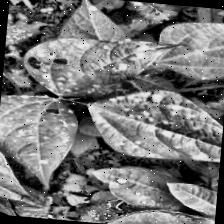Bean Rust: (81, 83, 224, 168), (26, 30, 179, 104), (0, 94, 80, 185), (55, 0, 137, 47)
